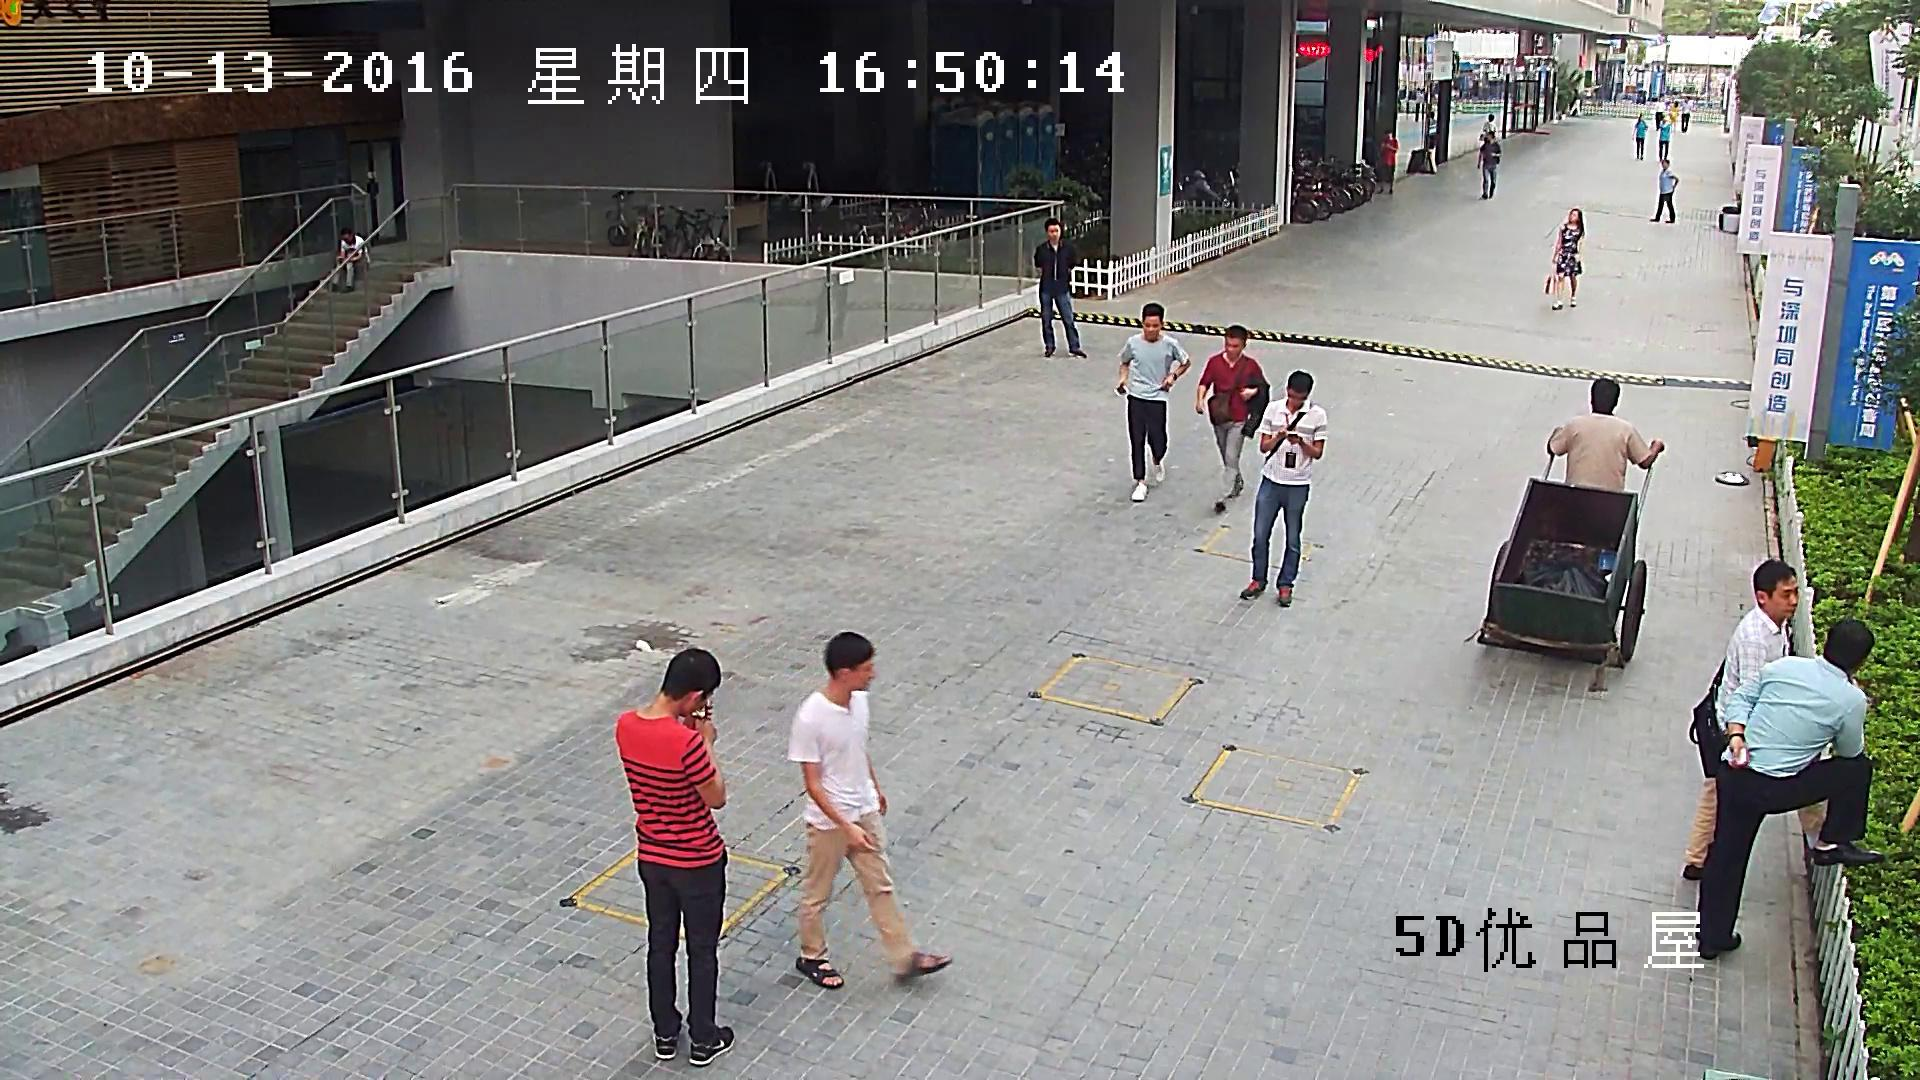person: (1698, 618, 1880, 959), (786, 630, 953, 989), (1477, 378, 1663, 692), (614, 646, 735, 1067), (1682, 557, 1828, 880), (1239, 369, 1328, 605), (1112, 303, 1191, 502), (1194, 325, 1269, 511), (1546, 379, 1663, 493), (1033, 216, 1086, 359), (1545, 208, 1584, 310), (330, 227, 371, 292), (1648, 159, 1678, 223), (1476, 131, 1501, 201), (1376, 130, 1398, 195), (1632, 113, 1648, 161), (1658, 117, 1670, 161), (1479, 114, 1497, 140), (1655, 98, 1665, 132), (1681, 96, 1691, 132), (1669, 100, 1679, 131)
